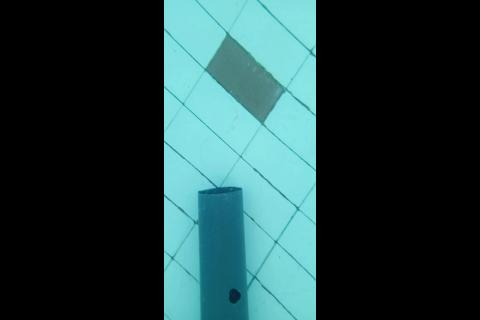kebocoran: (228, 286, 241, 304)
